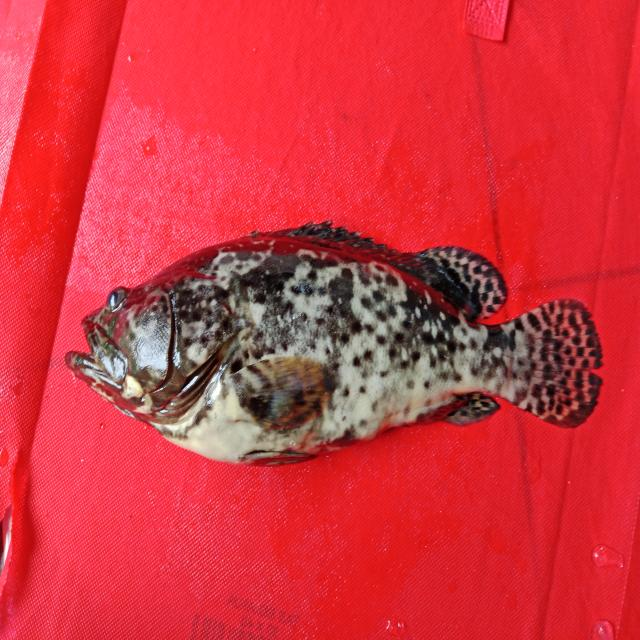ikan: (52, 198, 615, 471)
